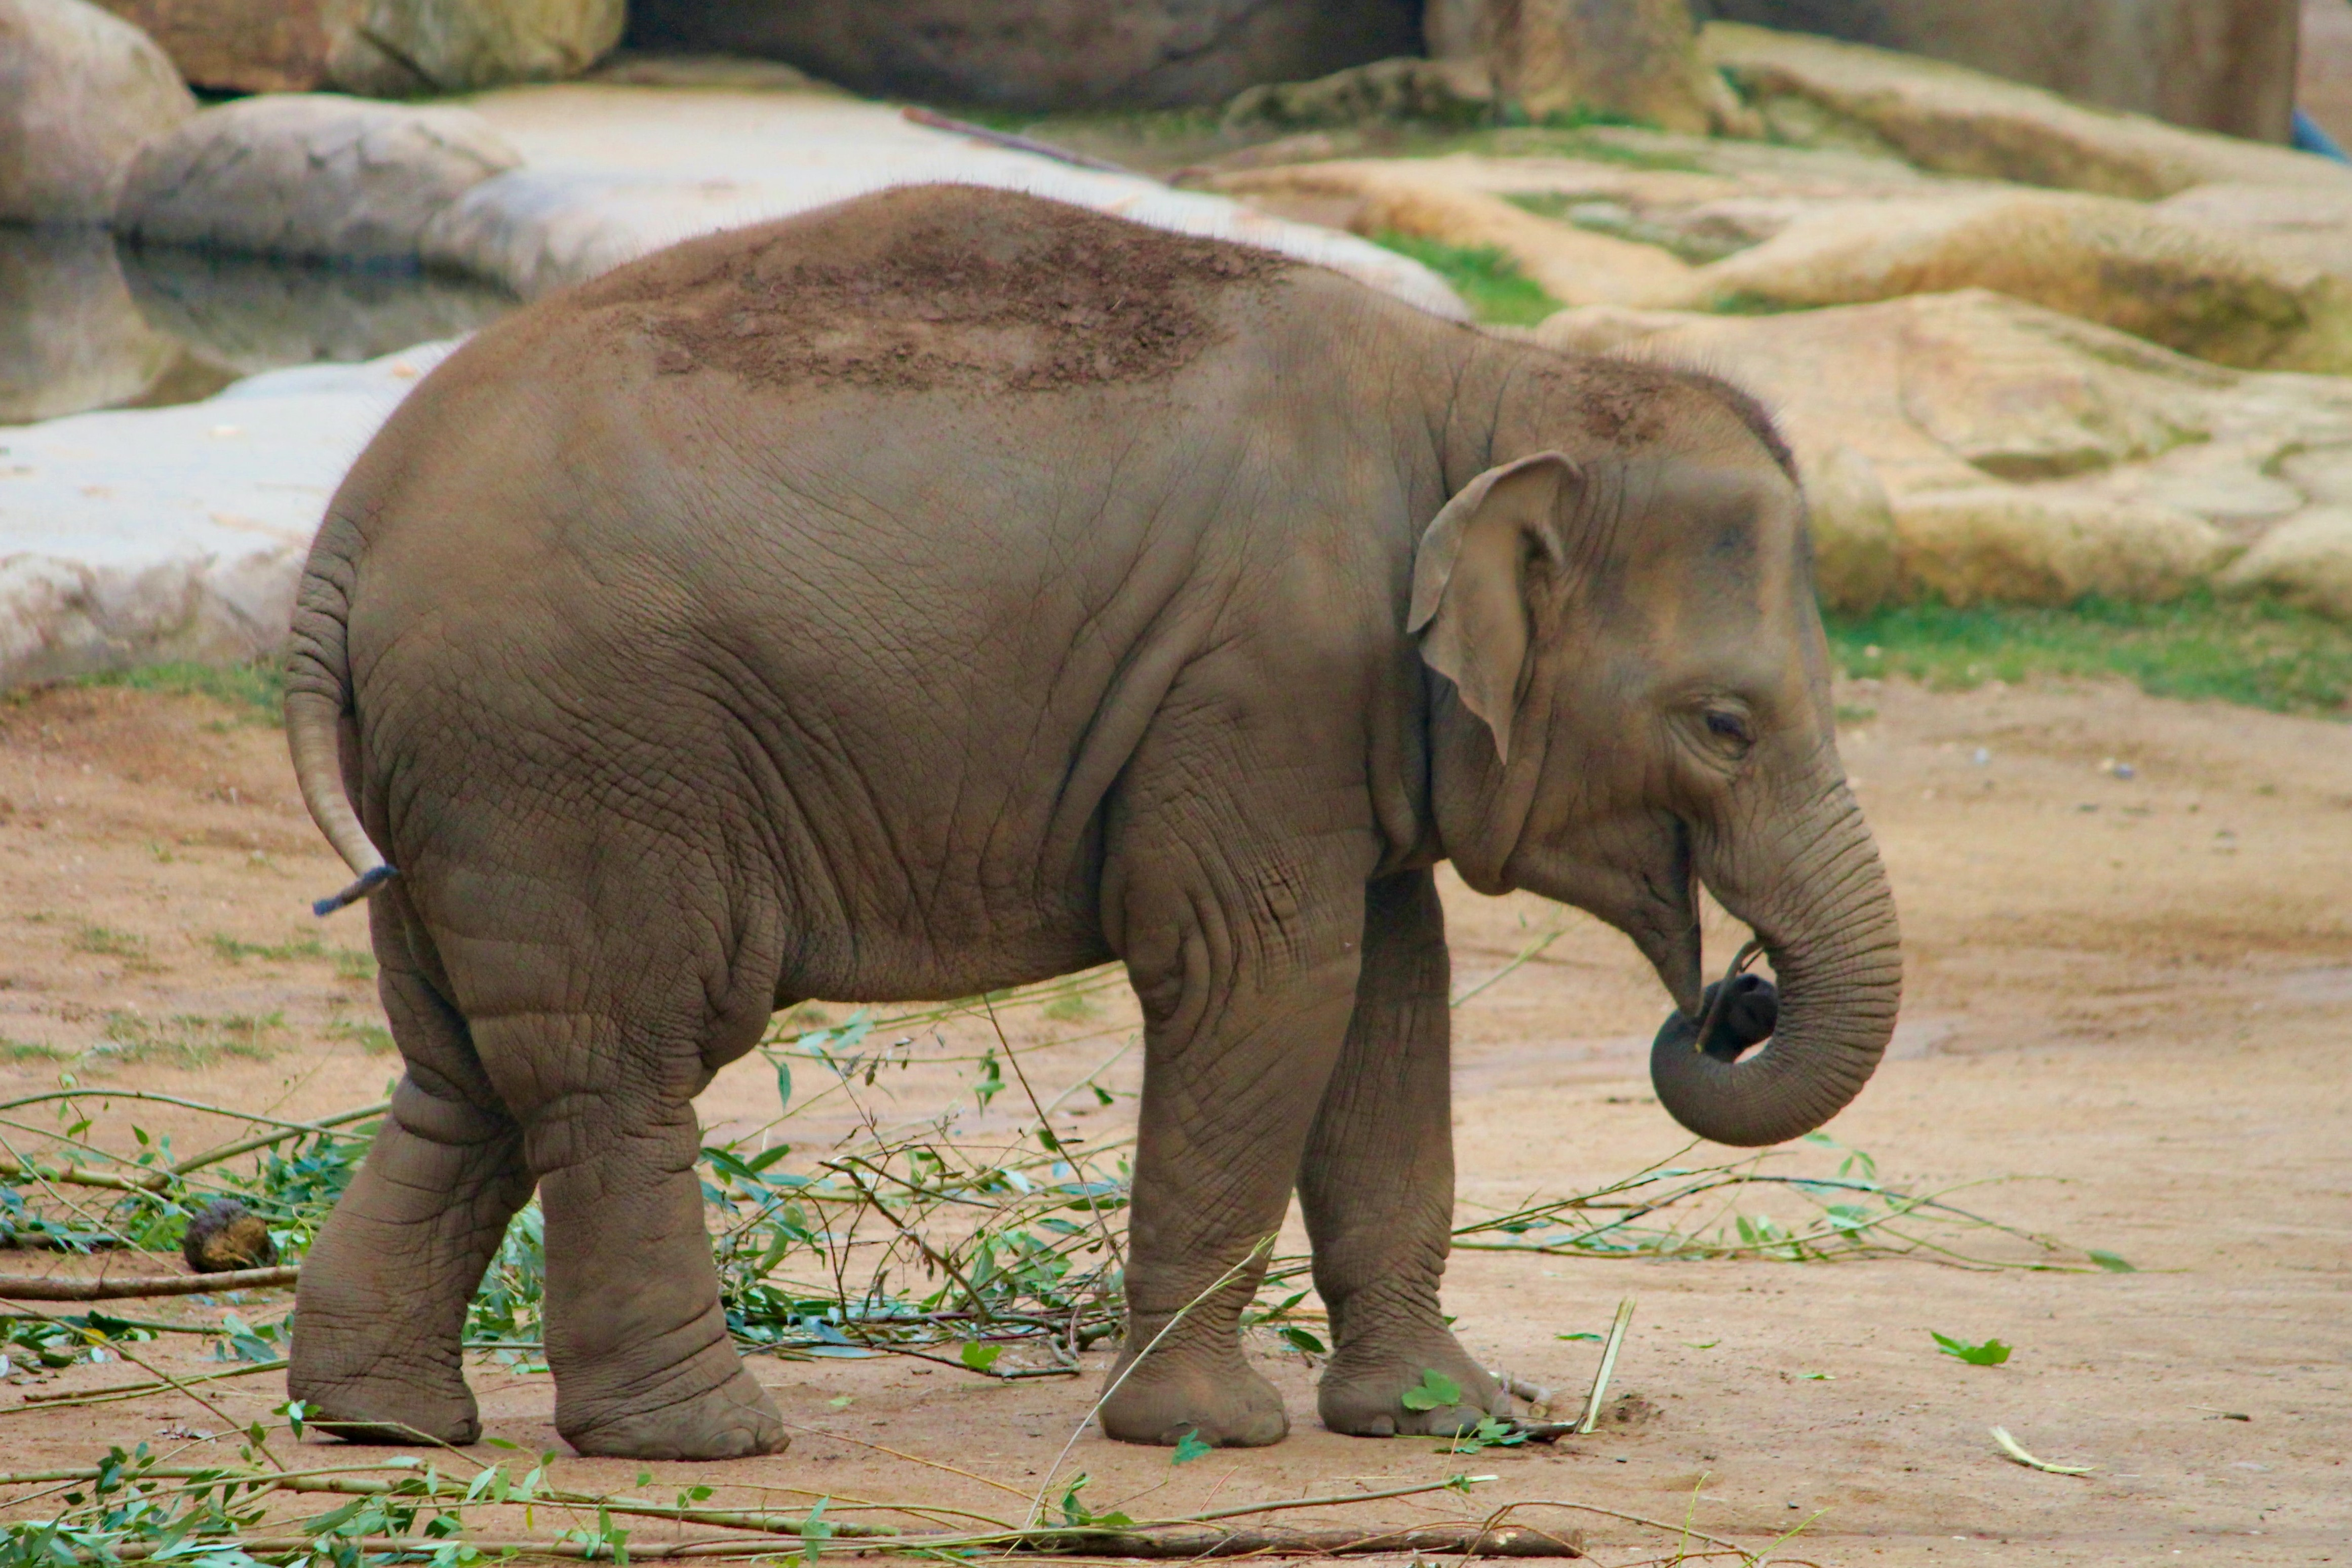Elephant: (262, 182, 1913, 1470)
